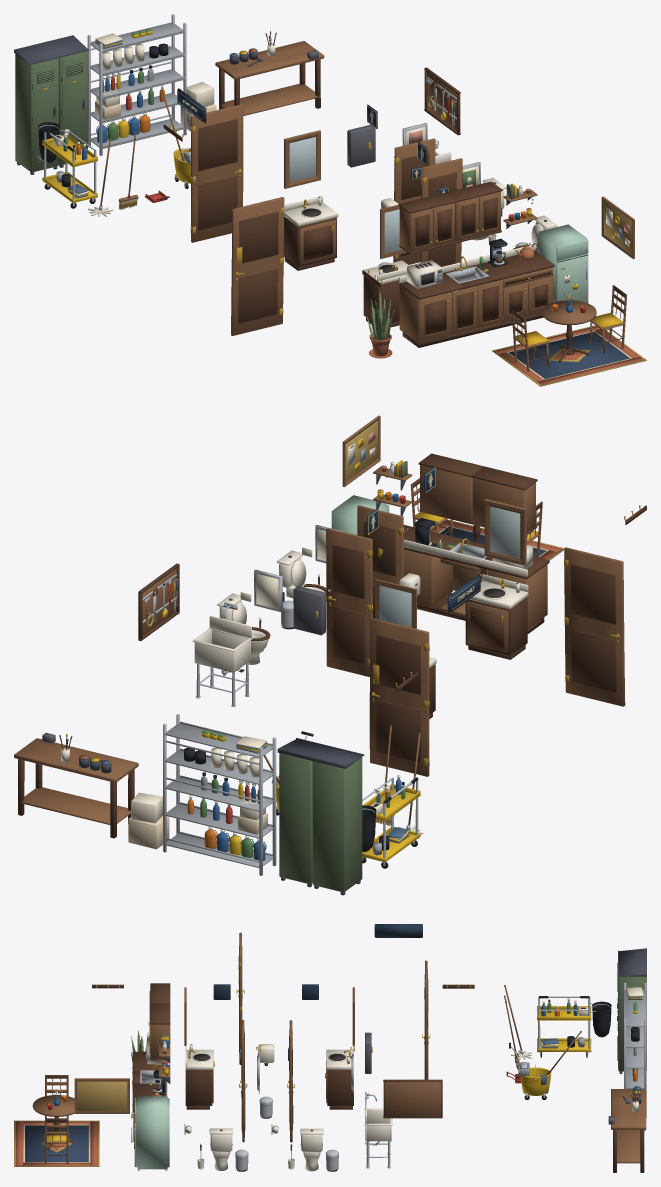
The model's file is Museum_Int_Service_Areas.fbx.
3 views of the same model, one above another, from view 1: azimuth 30°, elevation 25°; view 2: azimuth 150°, elevation 25°; view 3: azimuth 270°, elevation 25° (orthographic). The views are drawn at different scales.
Parts seen in each view (by area): view 1: Reception_Kitchenette, Maintenance_Shelves, Maintenance_Lockers, Door_StairHall_Restrooms, Door_Maintenance, Reception_UpperCupboards, Reception_Rug, Maintenance_Workbench, Restroom_Lobby_Counter_N, Reception_Fridge, Maintenance_Cart, Door_Restroom_2 (+15 smaller); view 2: Maintenance_Shelves, Maintenance_Lockers, Door_StairHall_Restrooms, Door_Maintenance, Reception_Kitchenette, Door_Restroom_2, Maintenance_Workbench, Reception_UpperCupboards, Restroom_Lobby_Counter_S, Maintenance_Cart, Maintenance_Sink, Door_Restroom_1 (+12 smaller); view 3: Reception_Rug, Reception_Fridge, Maintenance_Workbench, Maintenance_Cart, Maintenance_ToolRack, Maintenance_Shelves, Reception_Corkboard, Maintenance_Lockers, Restroom_Lobby_Counter_S, Restroom_Lobby_Counter_N, Reception_UpperCupboards, Reception_Kitchenette (+13 smaller).
Boxes of the visible parts, x1,y1,x2,y2 form: Reception_Kitchenette: (399, 244, 554, 347); Maintenance_Shelves: (87, 14, 186, 155); Maintenance_Lockers: (14, 35, 89, 174); Door_StairHall_Restrooms: (231, 197, 284, 335); Door_Maintenance: (190, 104, 243, 242); Reception_UpperCupboards: (398, 181, 502, 254); Reception_Rug: (492, 325, 646, 386); Maintenance_Workbench: (215, 31, 324, 115); Restroom_Lobby_Counter_N: (283, 196, 338, 270); Reception_Fridge: (537, 224, 588, 303); Maintenance_Cart: (38, 122, 97, 208); Door_Restroom_2: (393, 138, 435, 264); Maintenance_Shelves: (163, 714, 276, 875); Maintenance_Lockers: (277, 738, 364, 895); Door_StairHall_Restrooms: (564, 547, 625, 706); Door_Maintenance: (369, 618, 429, 776); Reception_Kitchenette: (403, 525, 549, 633); Door_Restroom_2: (326, 528, 372, 676); Maintenance_Workbench: (14, 732, 138, 838); Reception_UpperCupboards: (418, 453, 537, 534); Restroom_Lobby_Counter_S: (465, 574, 528, 659); Maintenance_Cart: (362, 775, 420, 868); Maintenance_Sink: (193, 602, 252, 706); Door_Restroom_1: (357, 505, 403, 618); Reception_Rug: (14, 1120, 99, 1166); Reception_Fridge: (131, 1096, 169, 1170); Maintenance_Workbench: (608, 1086, 646, 1172); Maintenance_Cart: (537, 996, 611, 1057); Maintenance_ToolRack: (383, 1079, 442, 1118); Maintenance_Shelves: (624, 983, 646, 1117); Reception_Corkboard: (74, 1078, 129, 1113); Maintenance_Lockers: (617, 948, 646, 1073); Restroom_Lobby_Counter_S: (185, 1044, 214, 1109); Restroom_Lobby_Counter_N: (325, 1046, 353, 1109); Reception_UpperCupboards: (148, 983, 170, 1060); Reception_Kitchenette: (132, 1051, 167, 1148).
Size of the model in its own units: 5.54 by 2.73 by 11.1.
